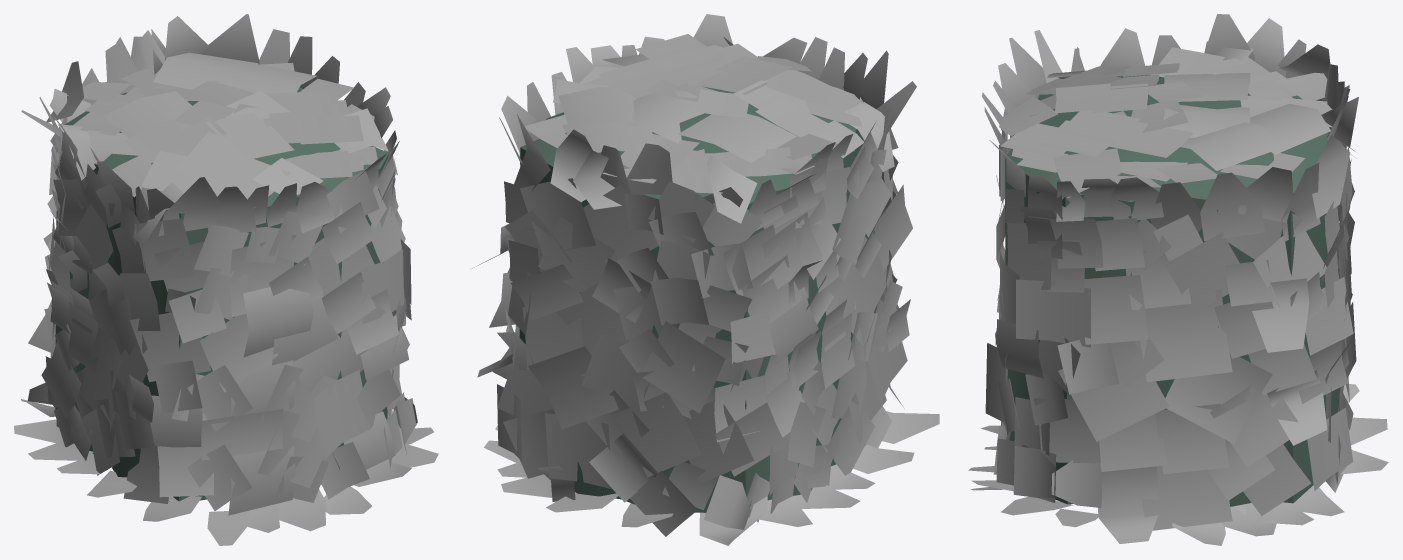
The model's file is bush final 2.fbx.
3 views of the same model, side by side, from view 1: azimuth 30°, elevation 25°; view 2: azimuth 150°, elevation 25°; view 3: azimuth 270°, elevation 25° (orthographic). The views are drawn at different scales.
Parts seen in each view (by area): view 1: bush1, pPlane156, pPlane168, pPlane173, pPlane171, pPlane3, pPlane115, pPlane265, pPlane132, pPlane158, pPlane257, pPlane20 (+105 smaller); view 2: bush1, pPlane11, pPlane84, pPlane82, pPlane257, pPlane80, pPlane88, pPlane97, pPlane7, pPlane79, pPlane276, pPlane74 (+112 smaller); view 3: bush1, pPlane202, pPlane219, pPlane218, pPlane187, pPlane209, pPlane214, pPlane200, pPlane220, pPlane201, pPlane226, pPlane223 (+87 smaller).
Part boxes in pixels (x1,y1,x2,y2): bush1: (55,87,388,501); pPlane156: (243,287,313,357); pPlane168: (312,370,370,459); pPlane173: (201,409,283,460); pPlane171: (228,446,295,515); pPlane3: (200,314,278,392); pPlane115: (129,312,211,382); pPlane265: (176,132,258,189); pPlane132: (134,218,194,281); pPlane158: (257,365,336,442); pPlane257: (104,91,191,138); pPlane20: (293,328,367,392); bush1: (519,86,876,512); pPlane11: (642,321,725,413); pPlane84: (613,392,701,477); pPlane82: (528,346,618,429); pPlane257: (678,113,796,162); pPlane80: (545,413,612,489); pPlane88: (682,400,754,483); pPlane97: (520,178,595,254); pPlane7: (538,216,614,292); pPlane79: (583,184,658,264); pPlane276: (558,86,636,129); pPlane74: (581,334,656,415); bush1: (1005,75,1339,506); pPlane202: (1140,289,1232,382); pPlane219: (1165,352,1272,443); pPlane218: (1058,341,1169,441); pPlane187: (1016,279,1090,347); pPlane209: (1141,466,1232,530); pPlane214: (1098,466,1158,543); pPlane200: (1084,275,1148,344); pPlane220: (1155,403,1229,474); pPlane201: (1164,232,1239,313); pPlane226: (1200,172,1264,240); pPlane223: (1210,385,1298,467).
Bounding box in the file's own units: 16.06 × 16.77 × 16.11.
